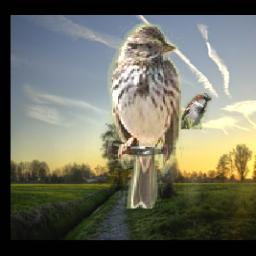Sparrow: (107, 22, 184, 208), (179, 94, 211, 130)
